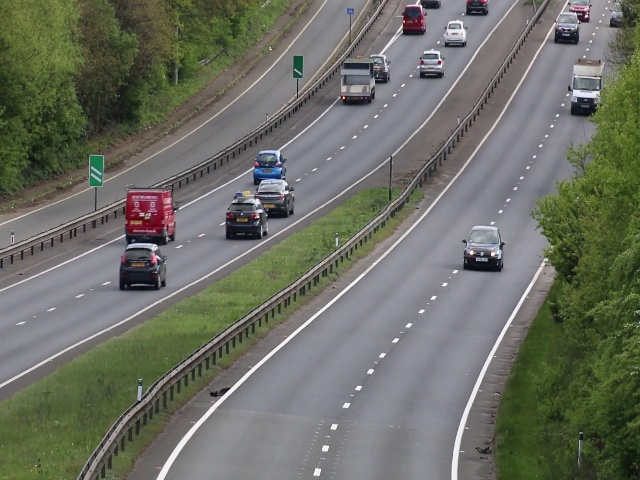car: (122, 183, 177, 244), (568, 58, 606, 119), (224, 190, 271, 239), (120, 244, 167, 291), (462, 223, 503, 272), (339, 57, 377, 105), (255, 179, 296, 217), (252, 146, 286, 182), (554, 8, 580, 45), (400, 4, 428, 37), (417, 47, 445, 78), (368, 51, 391, 84), (443, 17, 467, 46)
